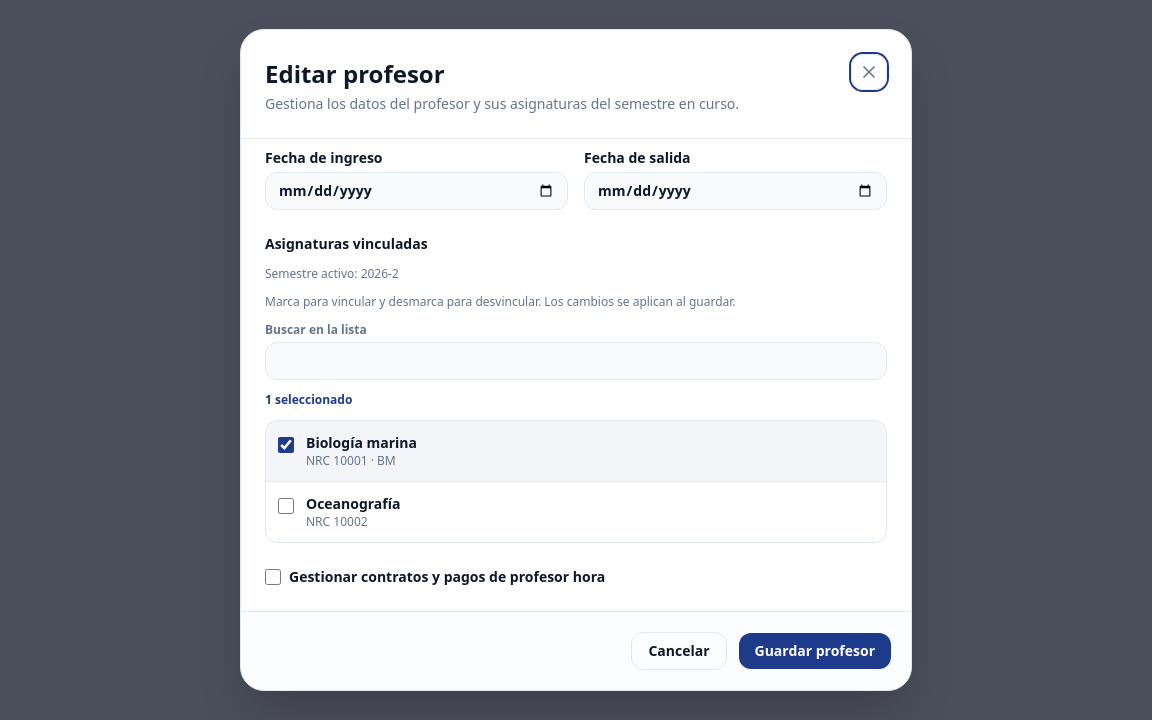
it: TeacherDialog › mantiene el formulario abierto y la selección si el backend rechaza el vínculo
(page scrolled)
Click the checkbox labelled "Biología marina NRC 10001 · BM": (286, 445) [278,437,294,453]
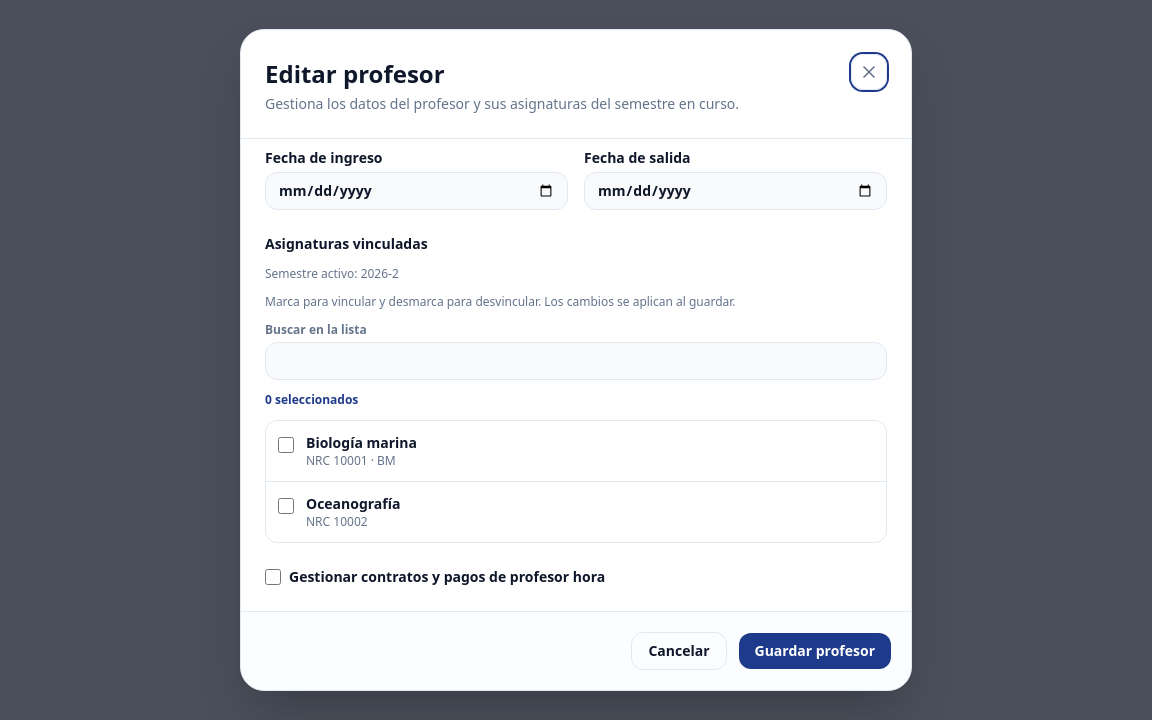
Click the button "Guardar profesor": (815, 651) [738,633,891,669]
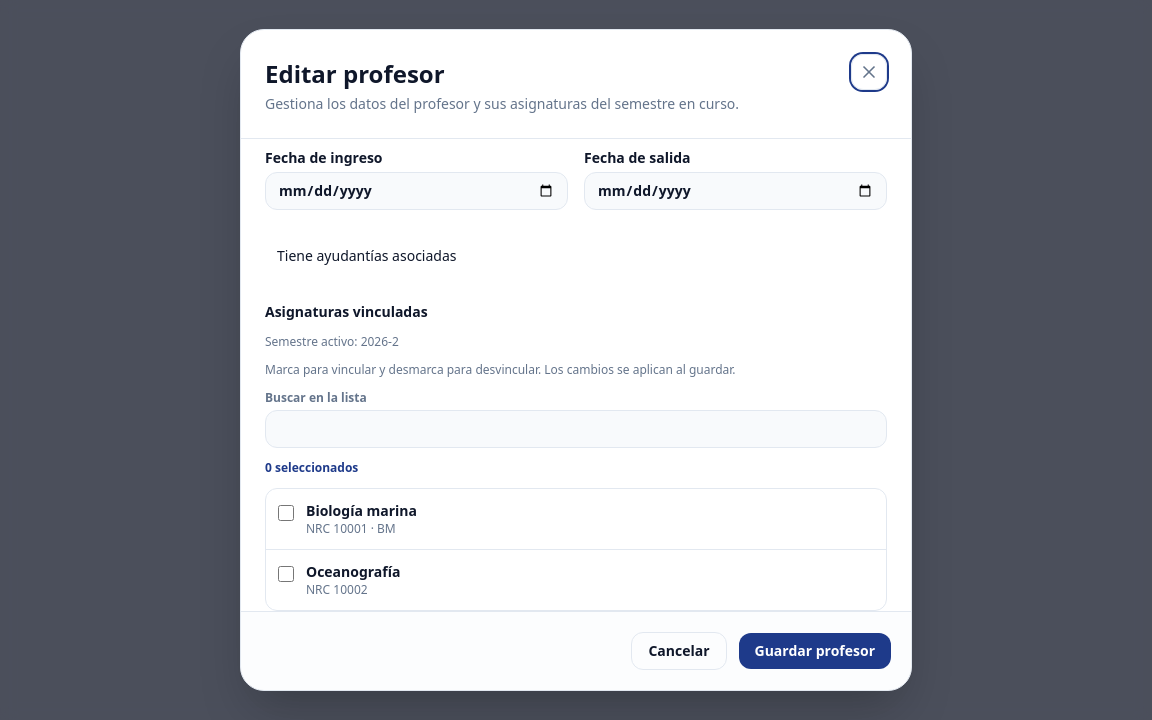
Expected: the checkbox labelled "Biología marina NRC 10001 · BM" is not checked, [278,505,294,521]
Expected: the message reads "Tiene ayudantías asociadas", [277,246,456,265]
